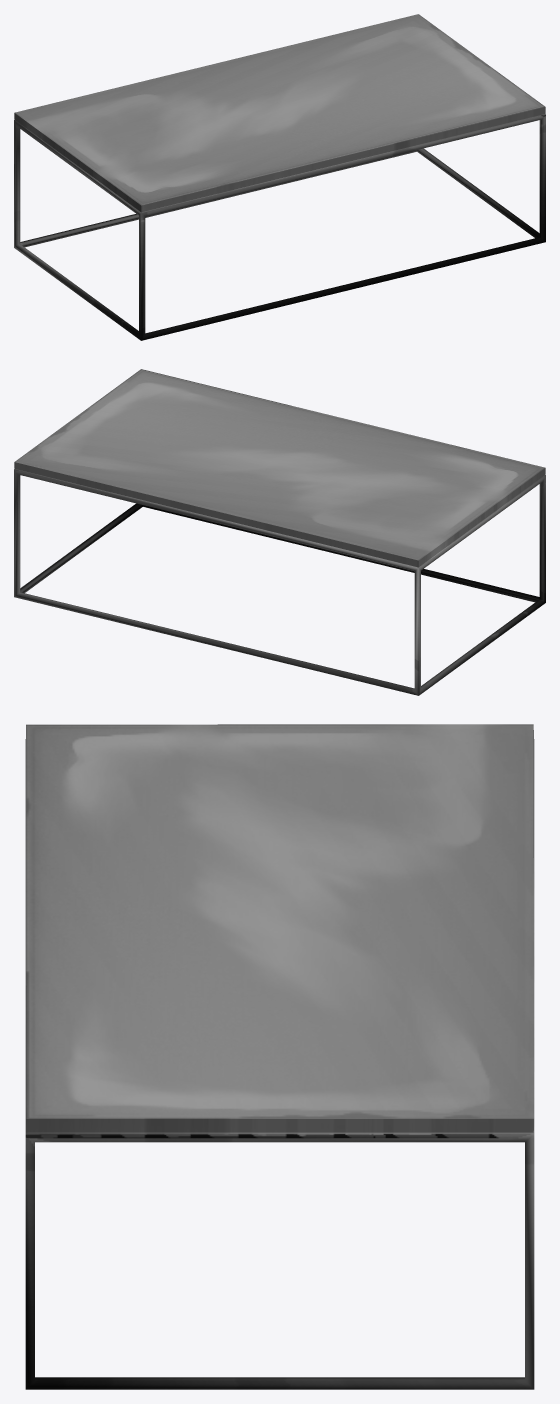
File: CoffeeTable.fbx
3 renders of one model, top to bottom at view 1: azimuth 30°, elevation 25°; view 2: azimuth 150°, elevation 25°; view 3: azimuth 270°, elevation 25°, orthographic. The views are drawn at different scales.
Visible parts, largest first — view 1: M_CoffeeTable; view 2: M_CoffeeTable; view 3: M_CoffeeTable.
Boxes of the visible parts, x1,y1,x2,y2 form: M_CoffeeTable: [14, 14, 545, 340]; M_CoffeeTable: [14, 369, 545, 695]; M_CoffeeTable: [25, 724, 534, 1389].
Size of the model in its own units: 1.12 by 0.3573 by 0.6093.
